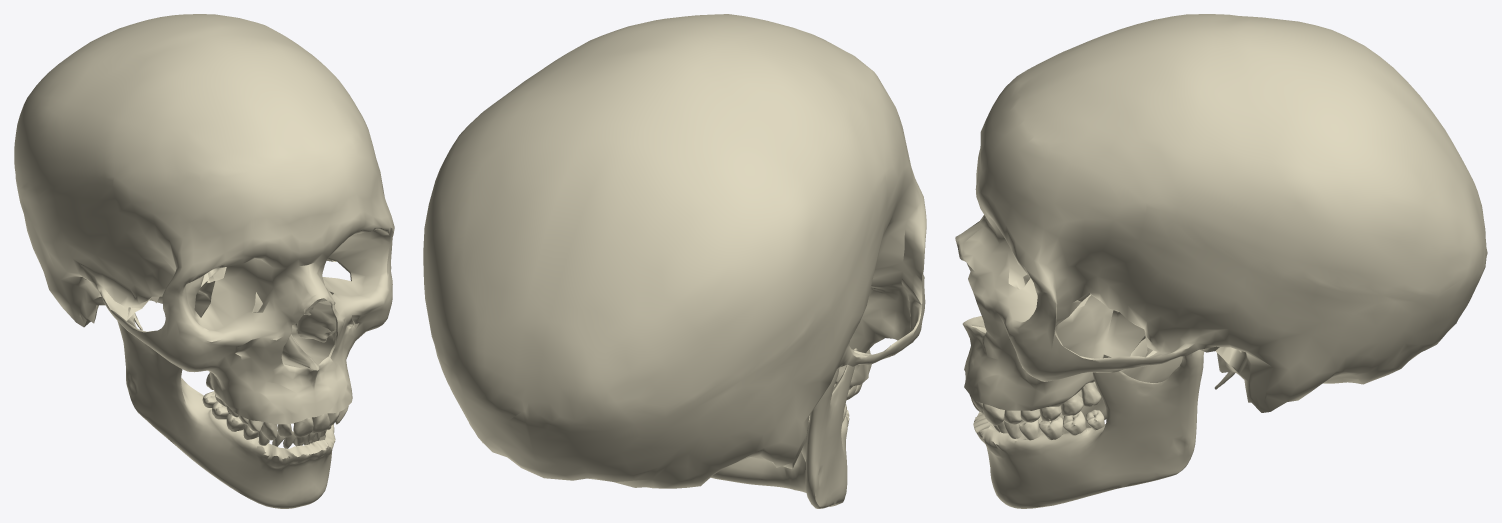
Rendered from Skull.dae.
3 renders of one model, left to right at view 1: azimuth 30°, elevation 25°; view 2: azimuth 150°, elevation 25°; view 3: azimuth 270°, elevation 25°, orthographic. The views are drawn at different scales.
Parts seen in each view (by area): view 1: SKULL (×2); view 2: SKULL (×2); view 3: SKULL (×2).
Part boxes in pixels (x1,y1,x2,y2): SKULL (×2): [14, 14, 394, 508]; SKULL (×2): [423, 14, 926, 508]; SKULL (×2): [955, 14, 1487, 508].
Bounding box in the file's own units: 6.96 × 9.78 × 9.41.
